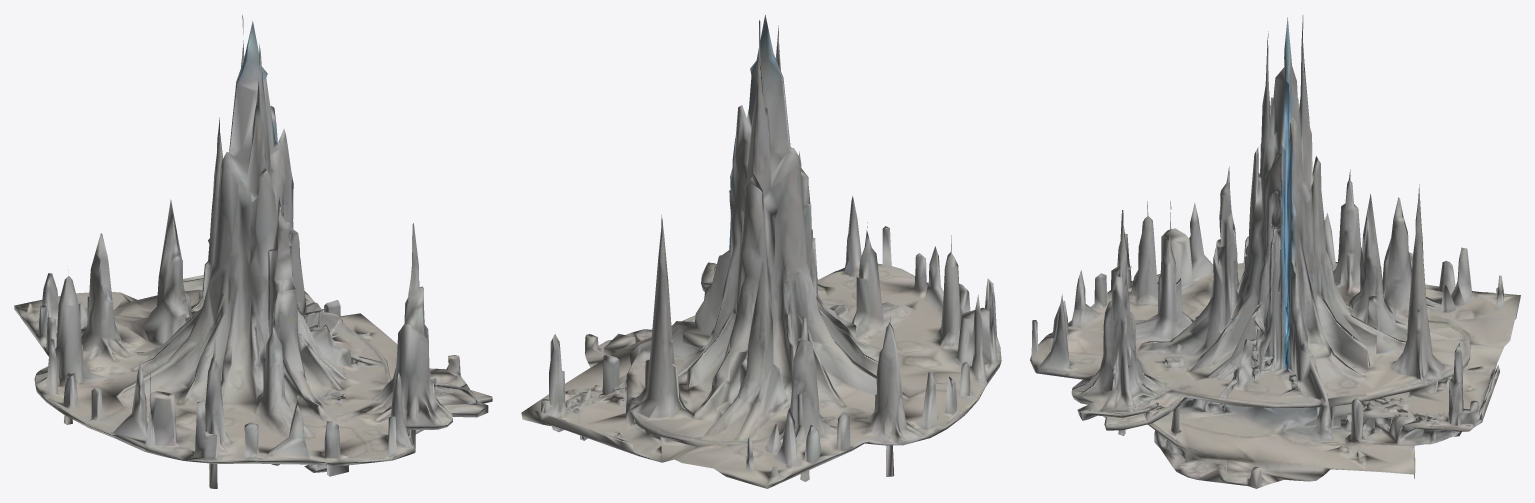
Rendered from tower.glb.
The picture shows the model from 3 angles, left to right: view 1: azimuth 30°, elevation 25°; view 2: azimuth 150°, elevation 25°; view 3: azimuth 270°, elevation 25°; orthographic projection. The views are drawn at different scales.
Visible parts, largest first — view 1: tripo_node_3f39ff8a-48a8-406a-81cb-aabc02b1392a; view 2: tripo_node_3f39ff8a-48a8-406a-81cb-aabc02b1392a; view 3: tripo_node_3f39ff8a-48a8-406a-81cb-aabc02b1392a.
Part boxes in pixels (x1,y1,x2,y2): tripo_node_3f39ff8a-48a8-406a-81cb-aabc02b1392a: (14,15,492,488); tripo_node_3f39ff8a-48a8-406a-81cb-aabc02b1392a: (521,15,1001,488); tripo_node_3f39ff8a-48a8-406a-81cb-aabc02b1392a: (1030,15,1520,488).
Bounding box in the file's own units: 1.02 × 0.9963 × 1.15.
1 material, 1 textured.
